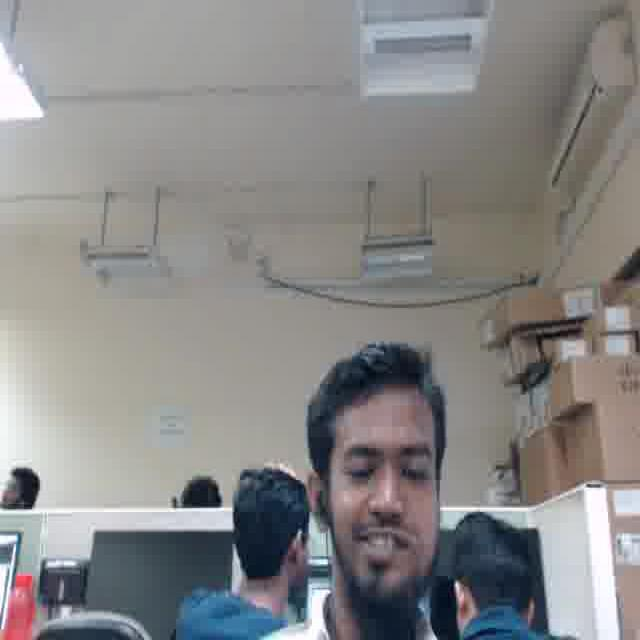Engaged: (325, 396, 442, 597)
